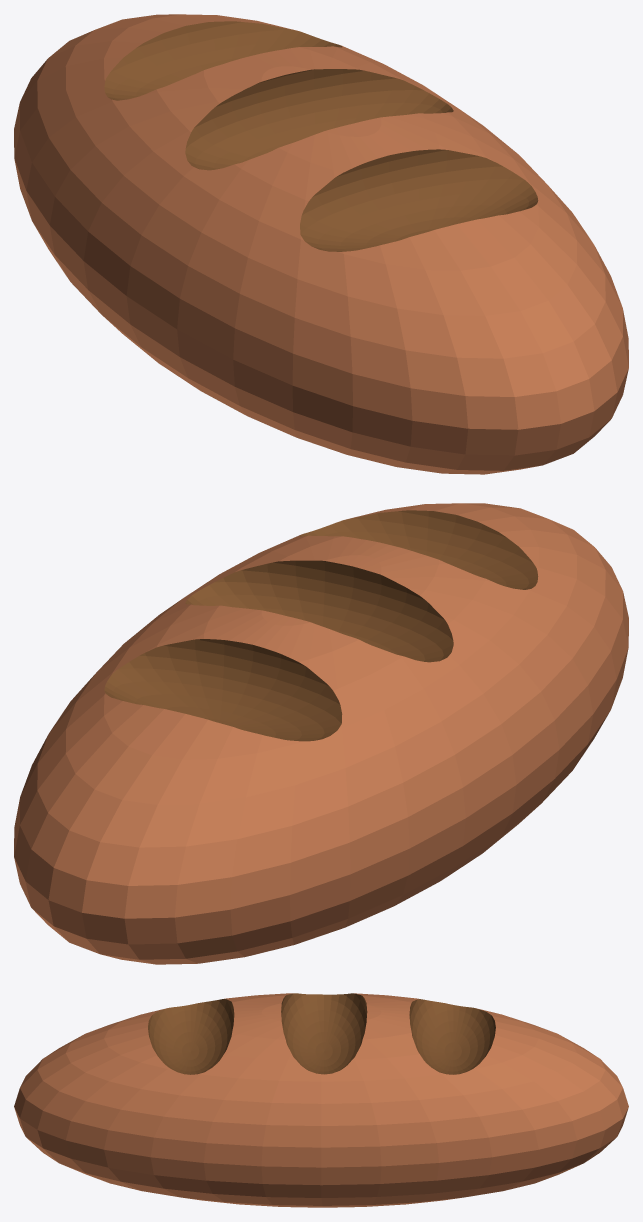
The model's file is bread.fbx.
3 views of the same model, one above another, from view 1: azimuth 30°, elevation 25°; view 2: azimuth 150°, elevation 25°; view 3: azimuth 270°, elevation 25° (orthographic). The views are drawn at different scales.
Parts seen in each view (by area): view 1: bread; view 2: bread; view 3: bread.
Boxes of the visible parts, box(x1,y1,x2,y2) form: bread: box(14, 14, 628, 474); bread: box(14, 503, 628, 964); bread: box(14, 993, 628, 1207).
Size of the model in its own units: 91.77 by 61.62 by 195.
